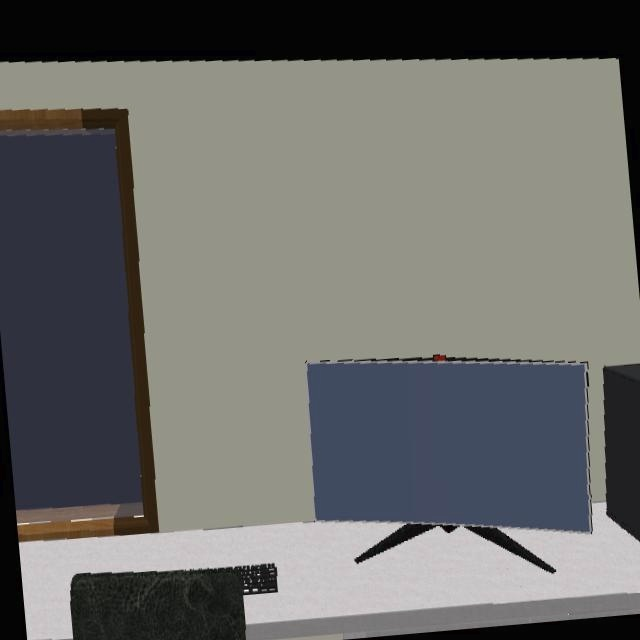monitor: (306, 354, 590, 572)
table: (18, 502, 640, 640)
